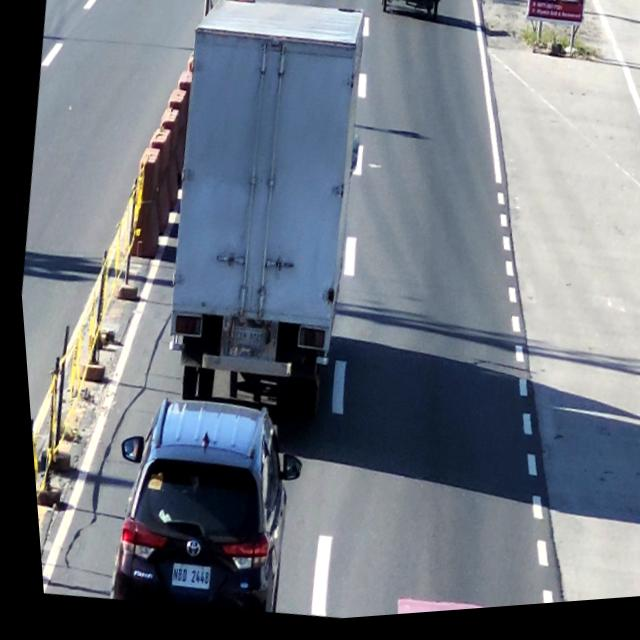Car: (89, 384, 303, 627)
License-Plate: (156, 561, 208, 606), (225, 321, 264, 359)
Tricycle: (371, 0, 446, 32)
Truck: (135, 0, 385, 422)
